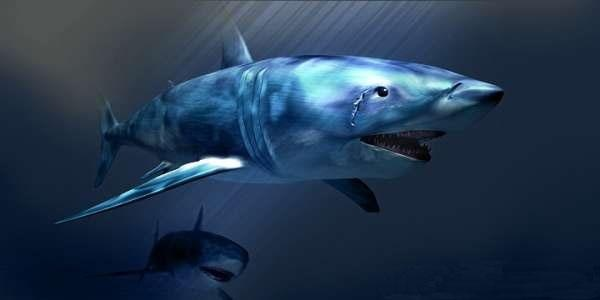fish: (47, 13, 504, 228)
